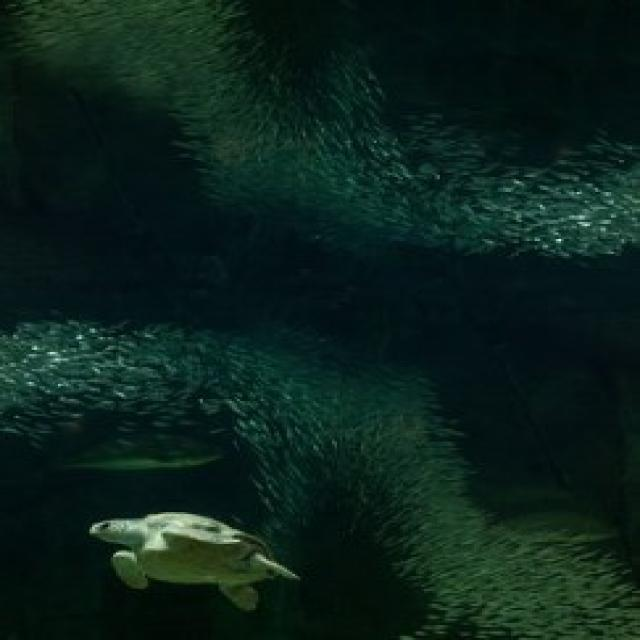Sea turtle: (57, 488, 340, 640)
